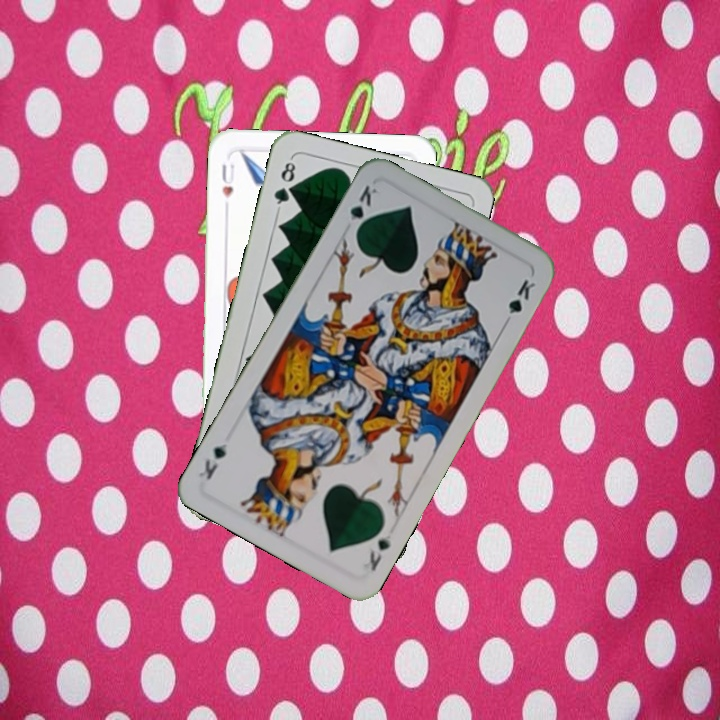G8: (269, 155, 298, 213)
GK: (344, 181, 382, 237), (365, 529, 394, 574)
HU: (218, 159, 237, 200)
